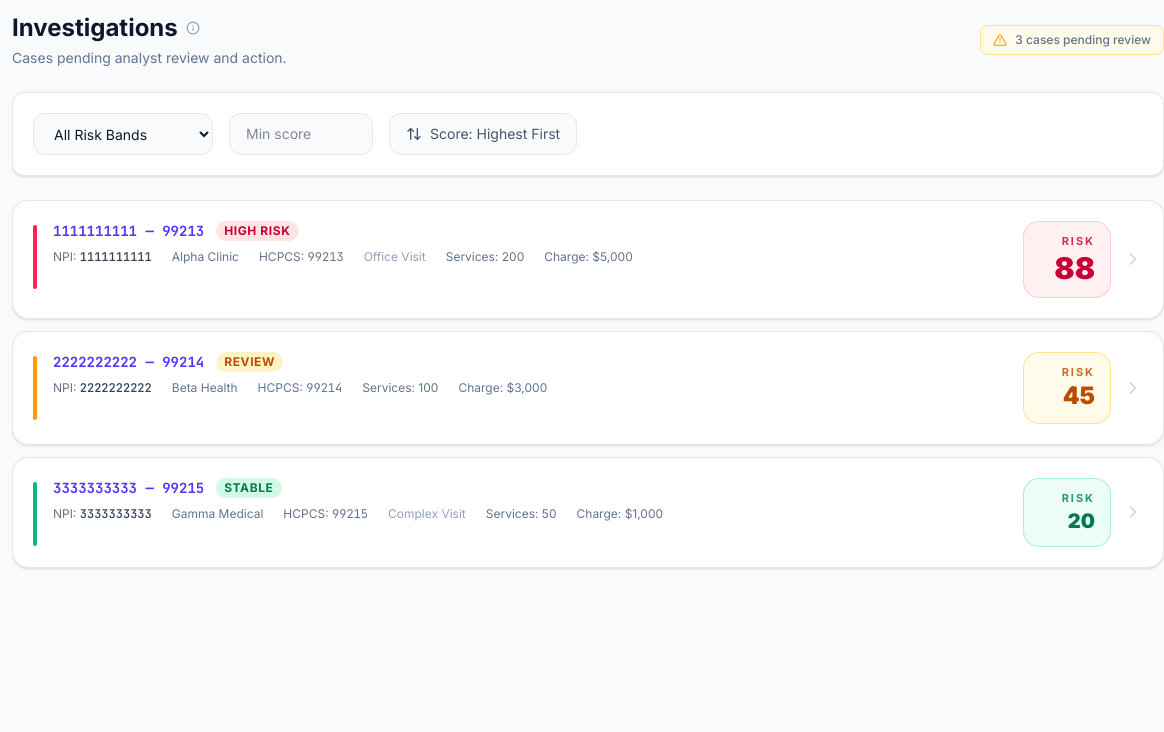
Test: Investigations › toggling sort button switches to lowest first
The image size is (1164, 732).
Expected: the text "Alpha Clinic" is shown, [172,249,239,265]
Click the button "Score: Highest First": (483, 134) [389,113,577,155]
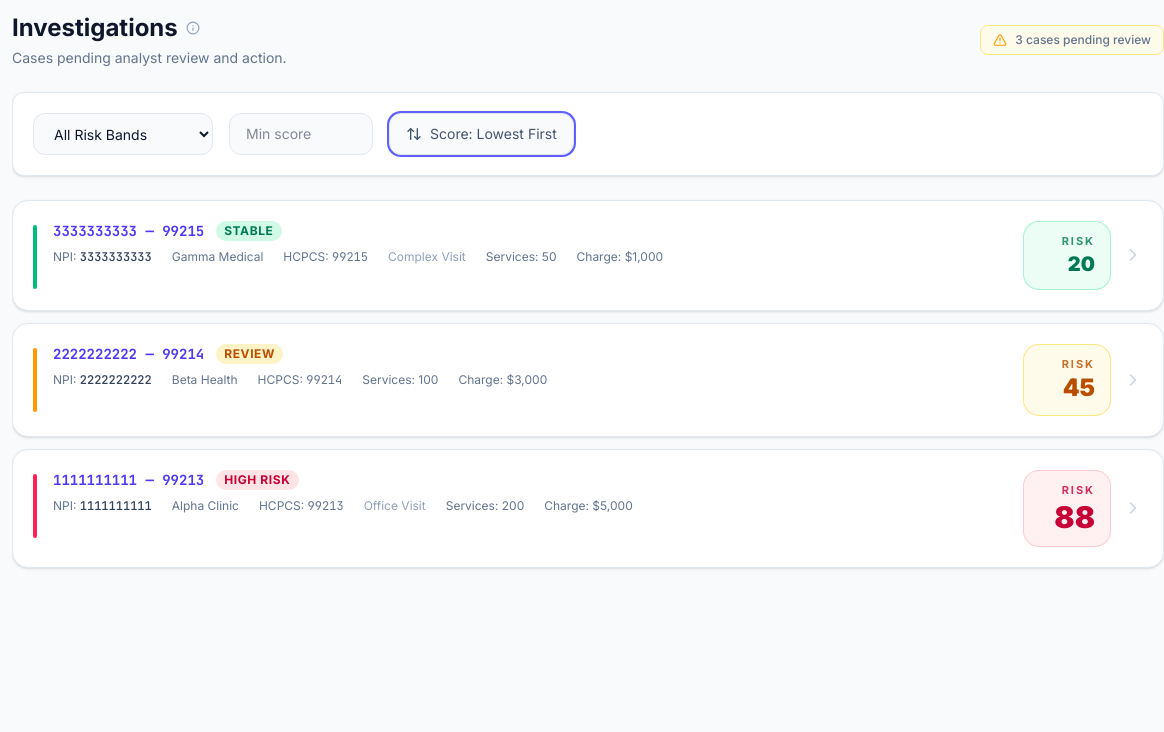
Now the button "Score: Lowest First" is shown, box [389,113,574,155]
